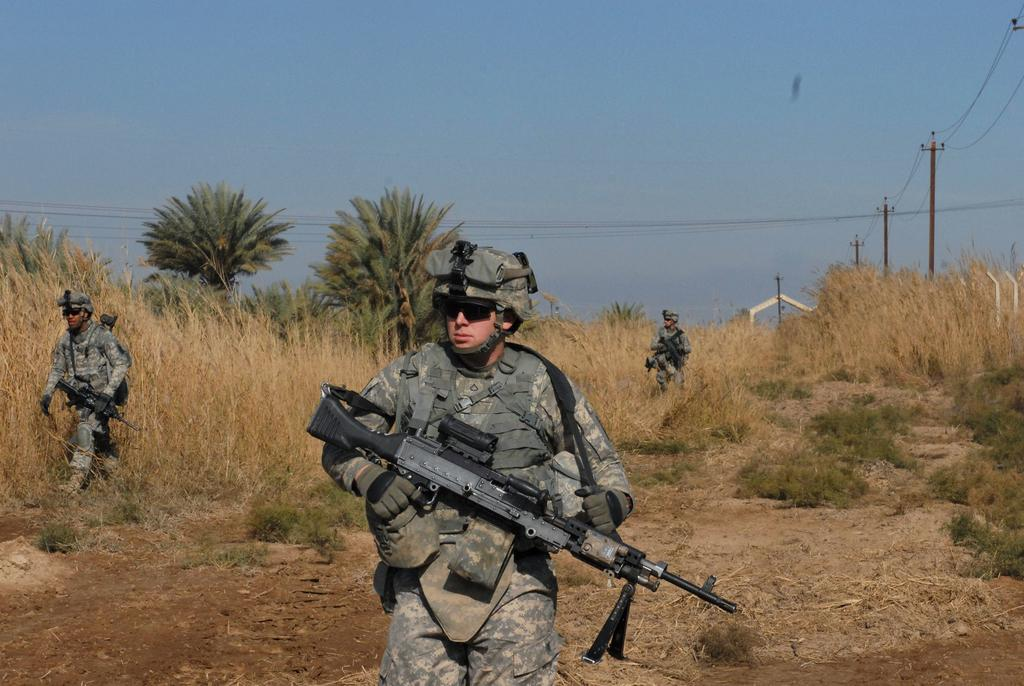Rifle: (340, 414, 763, 651), (54, 376, 140, 432)
